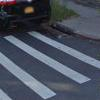Crosswalk: (0, 32, 93, 100)
